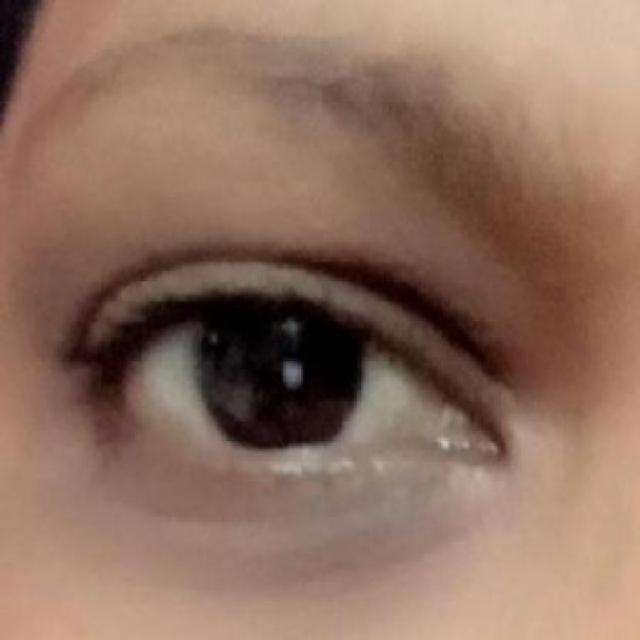awake: (110, 286, 504, 482)
